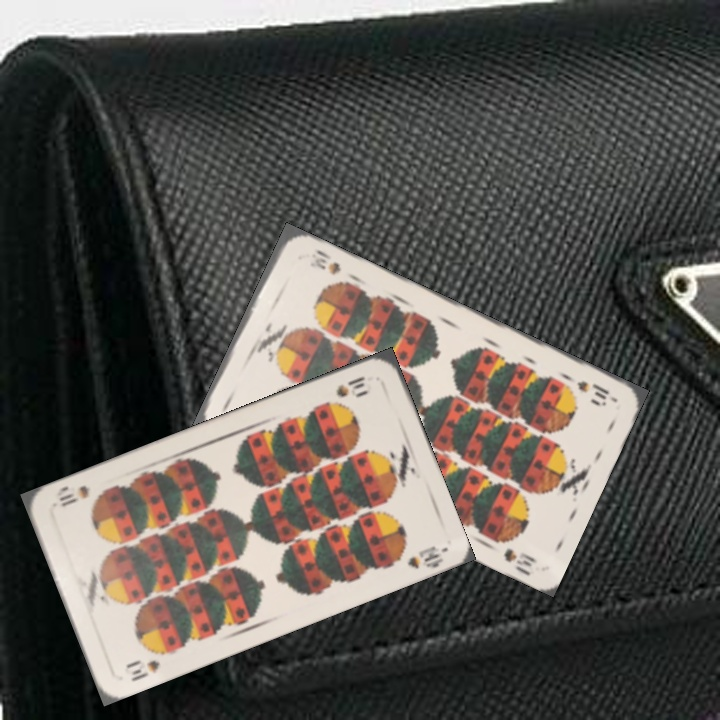S10: (122, 644, 173, 684), (573, 376, 613, 407), (331, 372, 374, 400)
